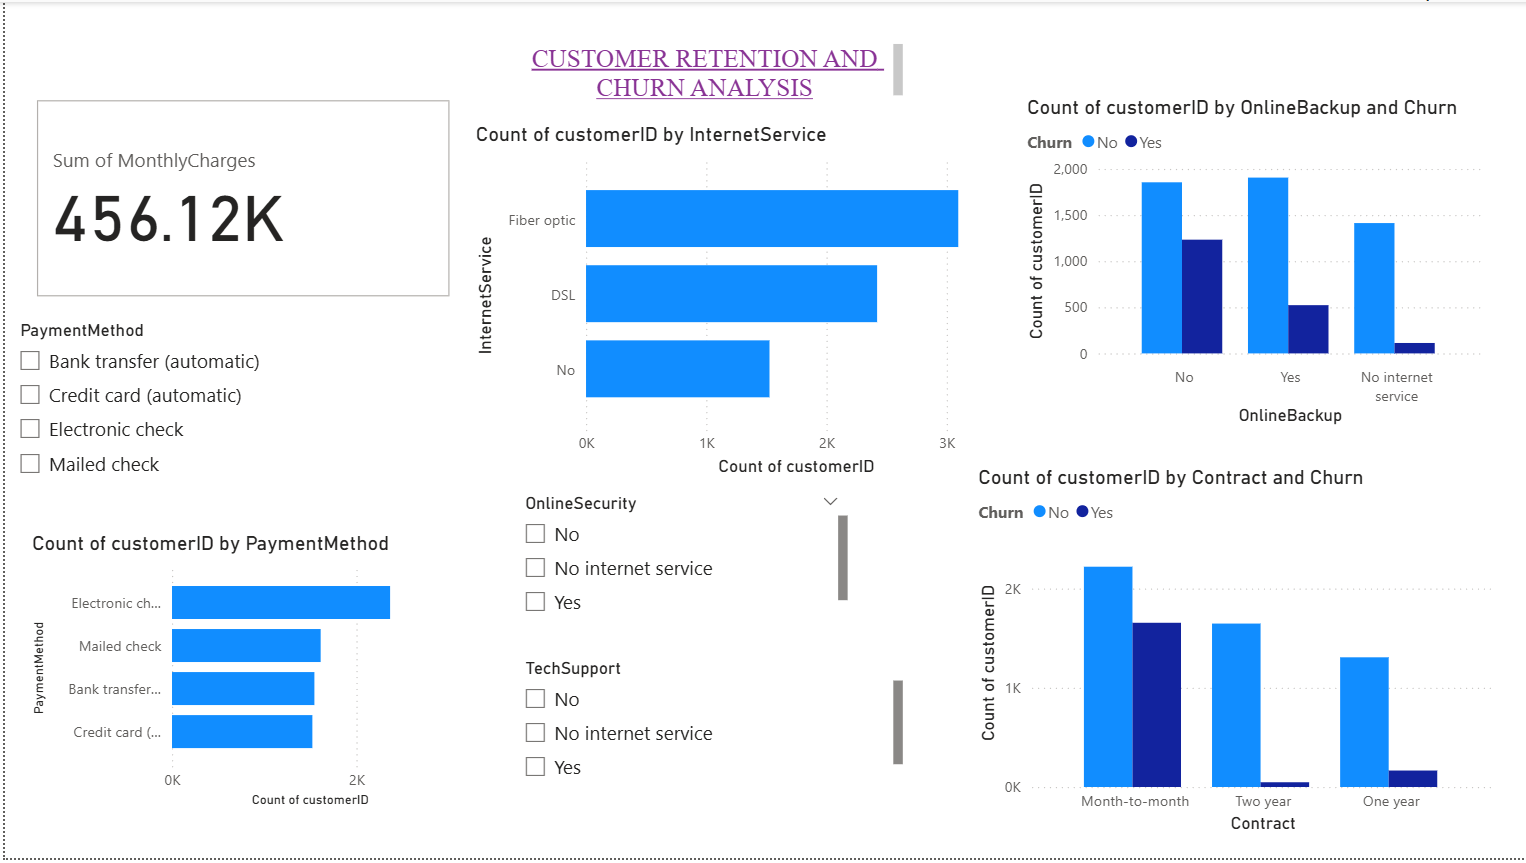

What the dashboard file says about the page in this screenshot:
{"tool":"powerbi","page":{"name":"Page 1","canvas":[1280,720],"ordinal":0},"visuals":[{"type":"cardVisual","fields":{"Data":["Sum(WA_Fn-UseC_-Telco-Customer-Churn.MonthlyCharges)"]},"box":[22.5,77.5,357.5,175],"z":0},{"type":"slicer","fields":{"Values":["WA_Fn-UseC_-Telco-Customer-Churn.PaymentMethod"]},"box":[0,262.5,425,237.5],"z":1000},{"type":"clusteredBarChart","fields":{"Category":["WA_Fn-UseC_-Telco-Customer-Churn.InternetService"],"Y":["CountNonNull(WA_Fn-UseC_-Telco-Customer-Churn.customerID)"]},"box":[391.2,101.2,463.8,302.5],"z":2000},{"type":"barChart","fields":{"Category":["WA_Fn-UseC_-Telco-Customer-Churn.PaymentMethod"],"Y":["CountNonNull(WA_Fn-UseC_-Telco-Customer-Churn.customerID)"]},"box":[17.5,445,367.5,237.5],"z":3000},{"type":"clusteredColumnChart","fields":{"Category":["WA_Fn-UseC_-Telco-Customer-Churn.OnlineBackup"],"Series":["WA_Fn-UseC_-Telco-Customer-Churn.Churn"],"Y":["CountNonNull(WA_Fn-UseC_-Telco-Customer-Churn.customerID)"]},"box":[855,77.5,392.5,282.5],"z":4000},{"type":"slicer","fields":{"Values":["WA_Fn-UseC_-Telco-Customer-Churn.OnlineSecurity"]},"box":[425,407.5,288.8,112.5],"z":5000},{"type":"slicer","fields":{"Values":["WA_Fn-UseC_-Telco-Customer-Churn.TechSupport"]},"box":[425,546.2,335,111.2],"z":6000},{"type":"clusteredColumnChart","fields":{"Category":["WA_Fn-UseC_-Telco-Customer-Churn.Contract"],"Series":["WA_Fn-UseC_-Telco-Customer-Churn.Churn"],"Y":["CountNonNull(WA_Fn-UseC_-Telco-Customer-Churn.customerID)"]},"box":[813.8,388.8,443.8,315],"z":7000},{"type":"textbox","box":[425,30,335,56.2],"z":8000}]}

Visuals, with their boxes in screenshot pixels (x1, y1, x2, y2), scaled from the page's 1280x720 canvas onto the 1526x863 screenshot:
cardVisual - Sum(WA_Fn-UseC_-Telco-Customer-Churn.MonthlyCharges): (27, 93, 453, 303)
slicer - WA_Fn-UseC_-Telco-Customer-Churn.PaymentMethod: (0, 315, 507, 599)
clusteredBarChart - WA_Fn-UseC_-Telco-Customer-Churn.InternetService x CountNonNull(WA_Fn-UseC_-Telco-Customer-Churn.customerID): (466, 121, 1019, 484)
barChart - WA_Fn-UseC_-Telco-Customer-Churn.PaymentMethod x CountNonNull(WA_Fn-UseC_-Telco-Customer-Churn.customerID): (21, 533, 459, 818)
clusteredColumnChart - WA_Fn-UseC_-Telco-Customer-Churn.OnlineBackup x WA_Fn-UseC_-Telco-Customer-Churn.Churn: (1019, 93, 1487, 432)
slicer - WA_Fn-UseC_-Telco-Customer-Churn.OnlineSecurity: (507, 488, 851, 623)
slicer - WA_Fn-UseC_-Telco-Customer-Churn.TechSupport: (507, 655, 906, 788)
clusteredColumnChart - WA_Fn-UseC_-Telco-Customer-Churn.Contract x WA_Fn-UseC_-Telco-Customer-Churn.Churn: (970, 466, 1499, 844)
textbox: (507, 36, 906, 103)
